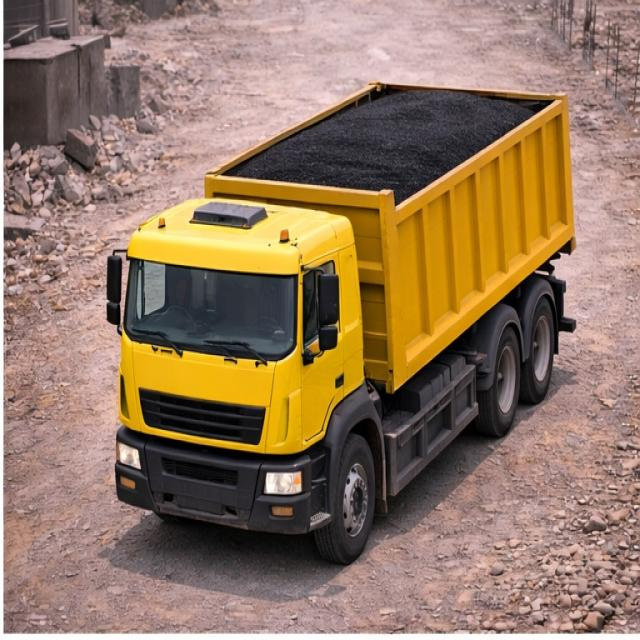Box: (201, 76, 567, 190)
Truck: (105, 73, 592, 558)
